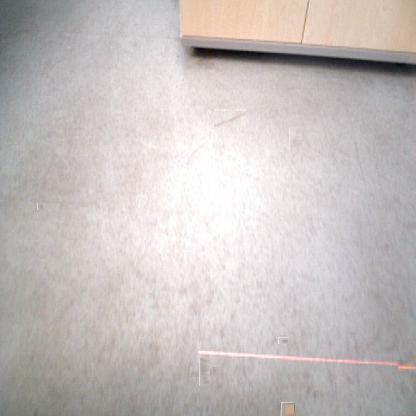dirty: (398, 360, 416, 372), (280, 402, 294, 416)
mark: (214, 110, 246, 127), (195, 363, 214, 382), (288, 129, 304, 146), (189, 143, 204, 159), (312, 146, 328, 158), (279, 336, 288, 345), (37, 202, 44, 210)
